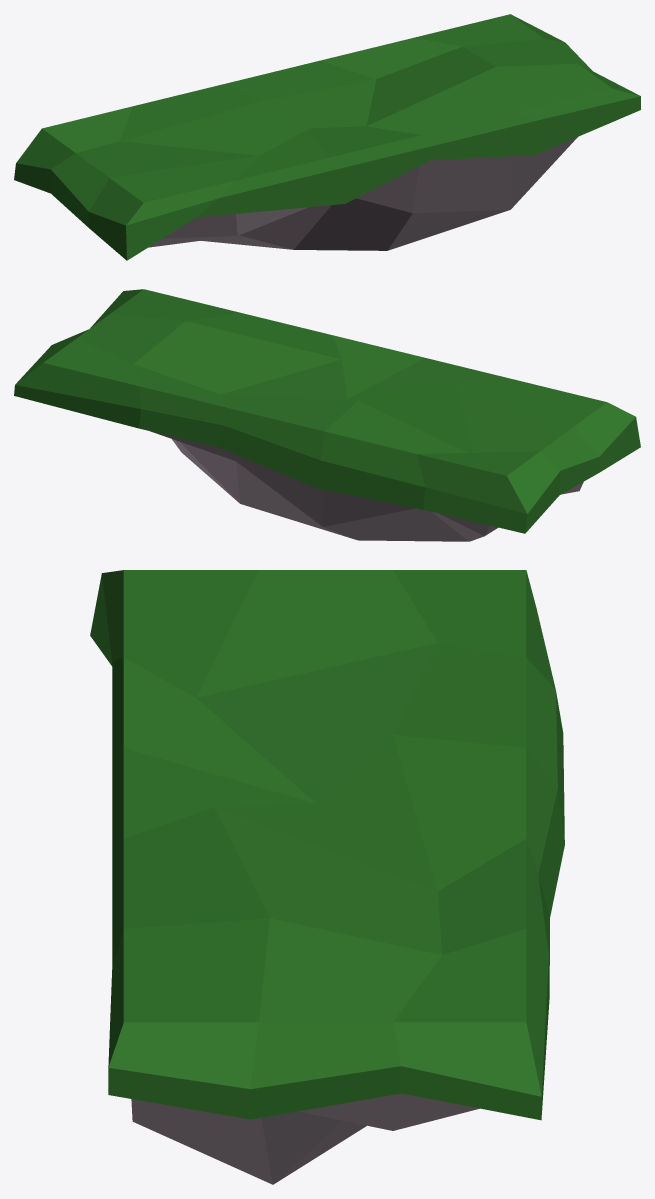
The model's file is Island_02.fbx.
3 views of the same model, one above another, from view 1: azimuth 30°, elevation 25°; view 2: azimuth 150°, elevation 25°; view 3: azimuth 270°, elevation 25° (orthographic). The views are drawn at different scales.
Visible parts, largest first — view 1: Cube.001, Cube; view 2: Cube.001, Cube; view 3: Cube.001, Cube.
Boxes of the visible parts, x1,y1,x2,y2 form: Cube.001: (14, 14, 640, 260); Cube: (148, 137, 577, 250); Cube.001: (14, 289, 640, 533); Cube: (150, 431, 583, 541); Cube.001: (90, 570, 564, 1120); Cube: (131, 1093, 479, 1184).
Bounding box in the file's own units: 1778 × 506 × 711.
